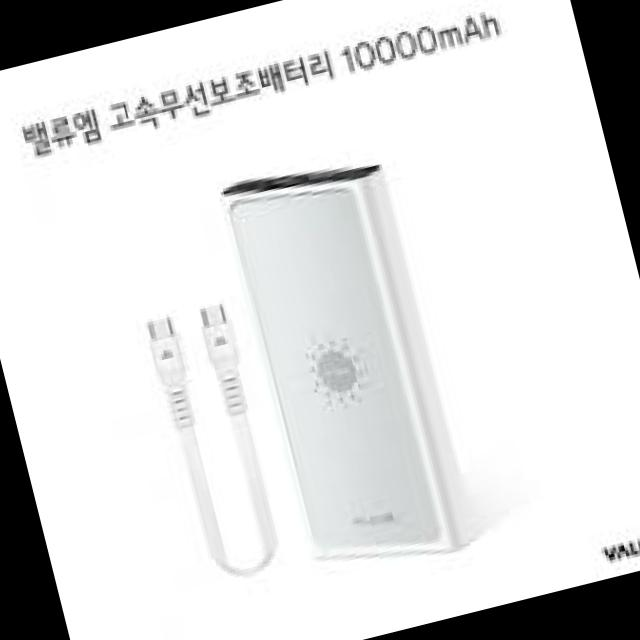portable-charger: (218, 141, 488, 589)
